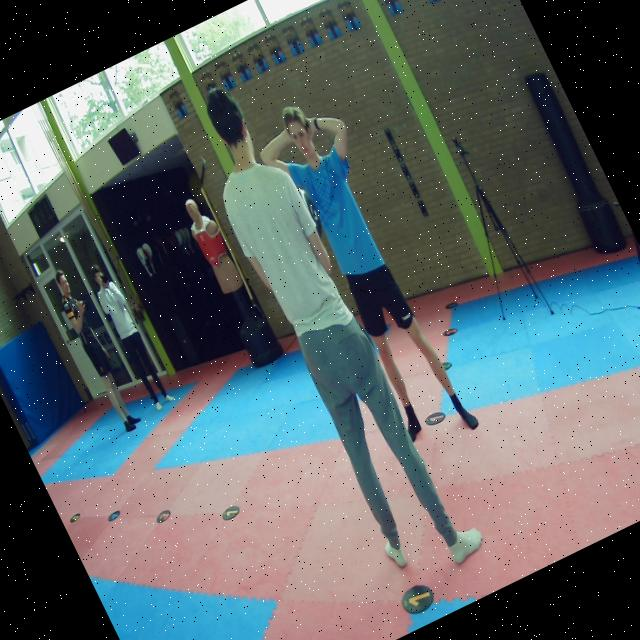paddle: (297, 188, 320, 235)
